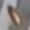cockroach: (9, 6, 22, 26)
